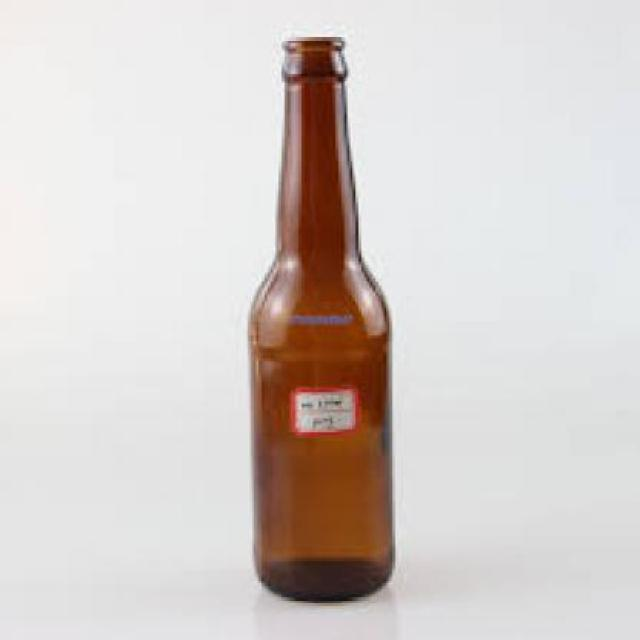kaca: (248, 34, 389, 600)
